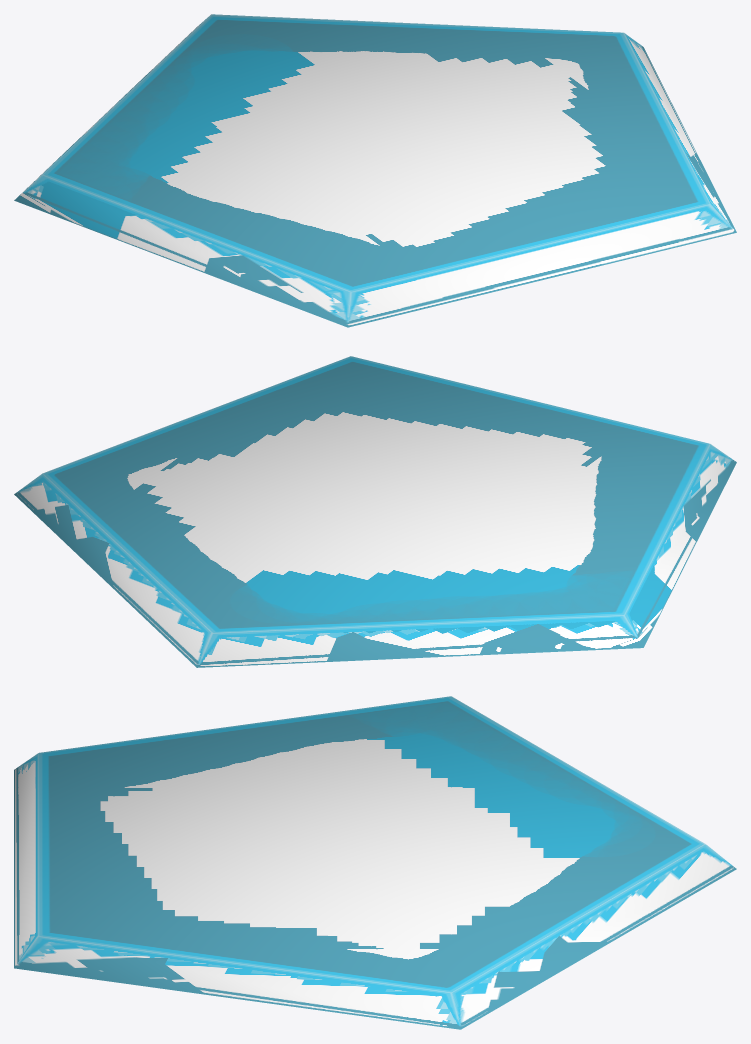
The model's file is hex.fbx.
3 views of the same model, one above another, from view 1: azimuth 30°, elevation 25°; view 2: azimuth 150°, elevation 25°; view 3: azimuth 270°, elevation 25° (orthographic). The views are drawn at different scales.
Visible parts, largest first — view 1: Cylinder; view 2: Cylinder; view 3: Cylinder.
Boxes of the visible parts, x1=… form: Cylinder: x1=14, y1=14, x2=736, y2=327; Cylinder: x1=14, y1=356, x2=736, y2=667; Cylinder: x1=14, y1=696, x2=736, y2=1029.
Bounding box in the file's own units: 1.9 × 0.0678 × 1.81.
Materials: 1 (1 with a texture image).
